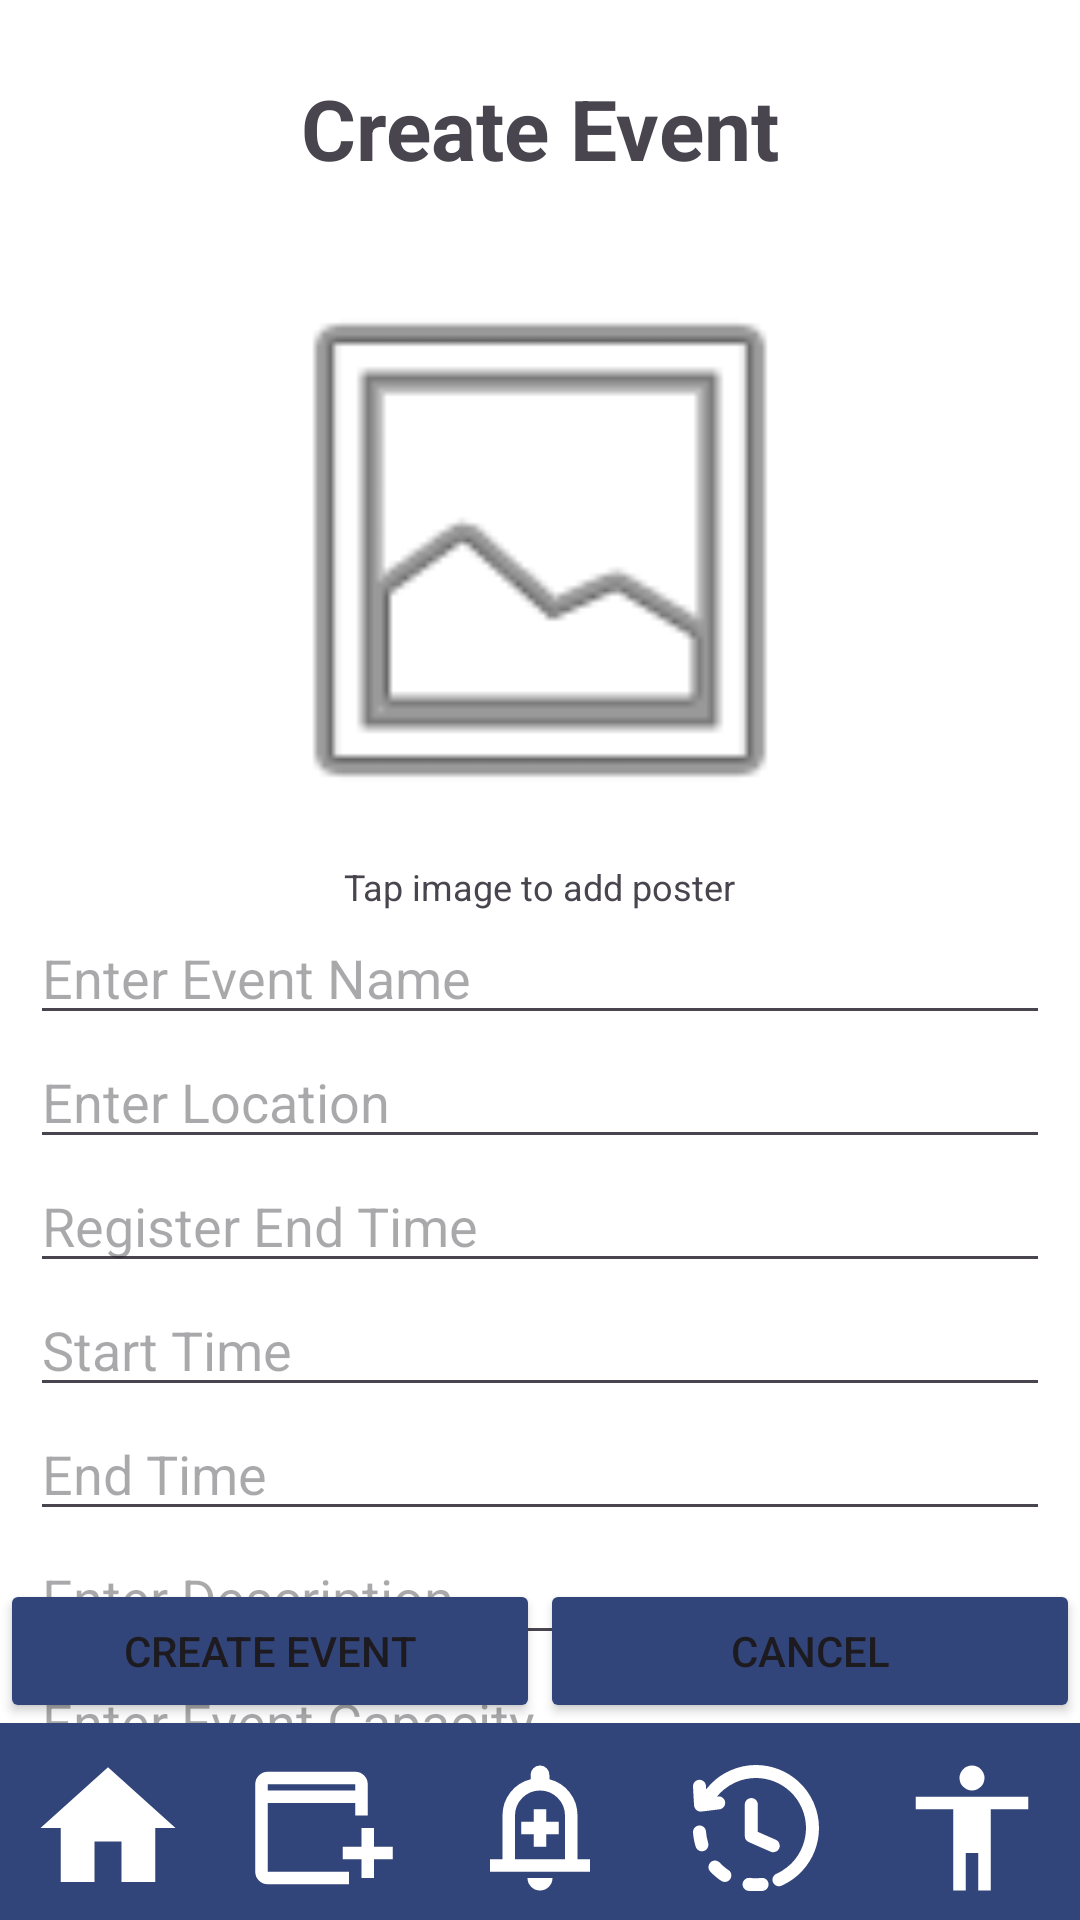

Where icons sit on this 1080w x 1920h app screen, as (x1, y1, x2, y2):
history: (693, 1765, 819, 1891)
home: (41, 1767, 175, 1882)
notification: (490, 1765, 590, 1891)
profile: (915, 1765, 1029, 1891)
